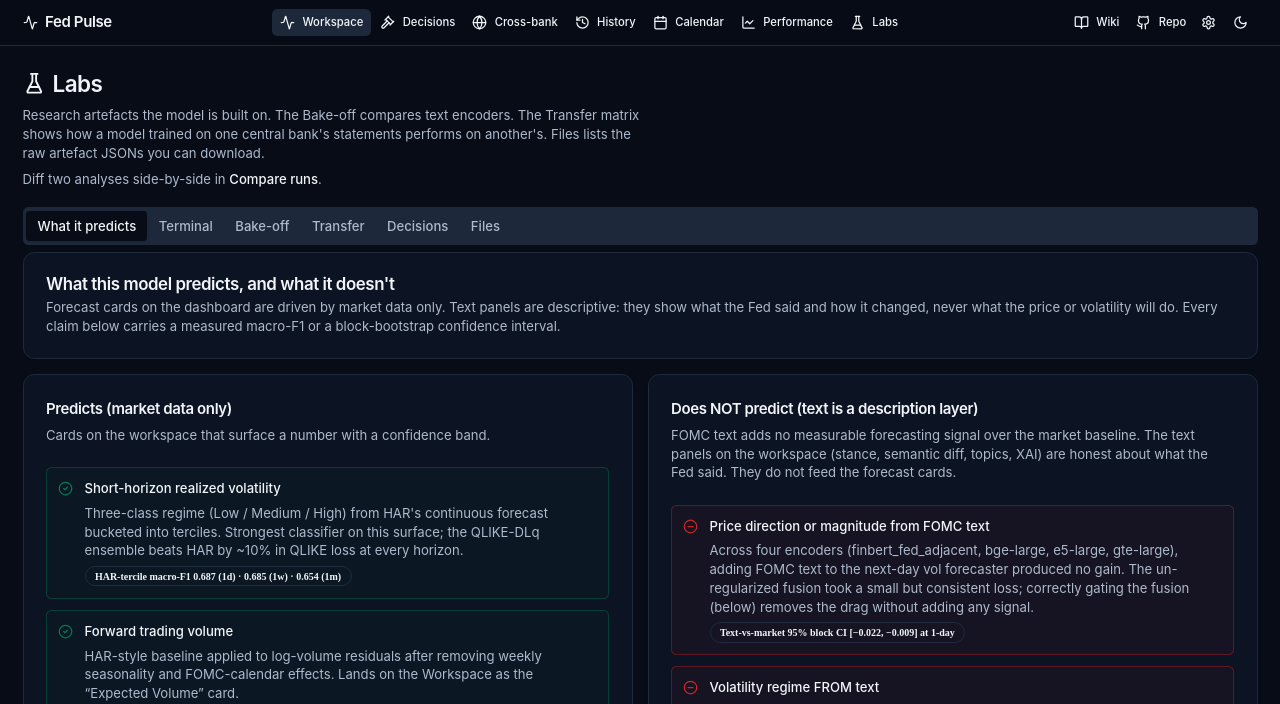
Test case: ResearchPage › renders the Files tab with at least one artefact row under the new label
Click the tab "Files". click: x=485, y=226
box: [460,211,511,241]
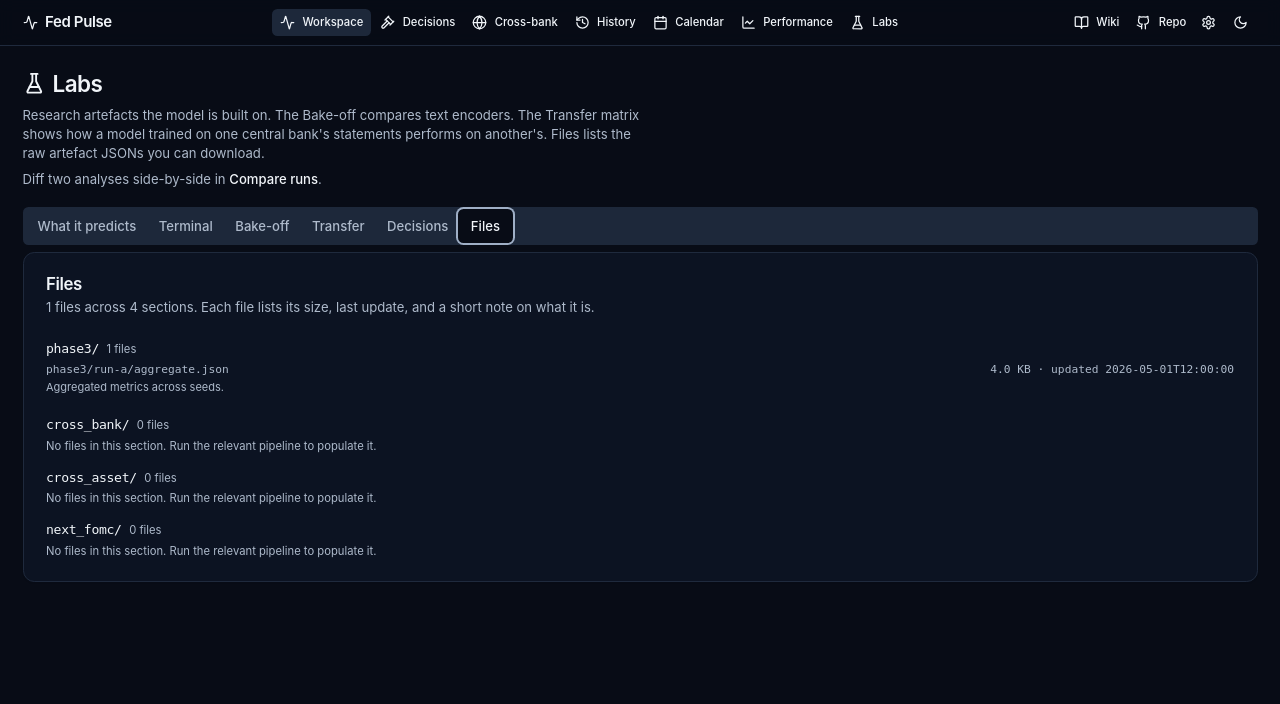
Check: the text "phase3/run-a/aggregate.json" is shown, box [46,362,229,377]
